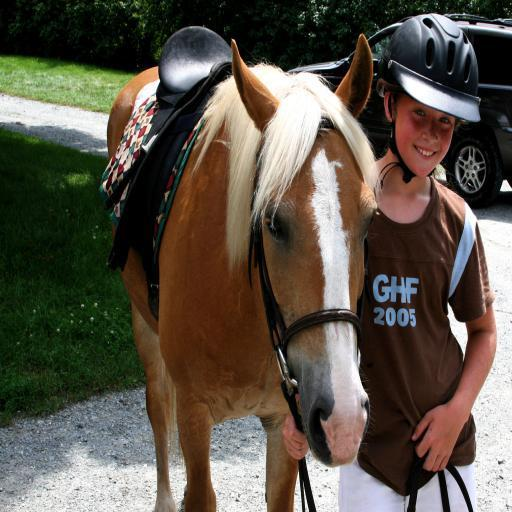horse: (104, 34, 382, 512)
